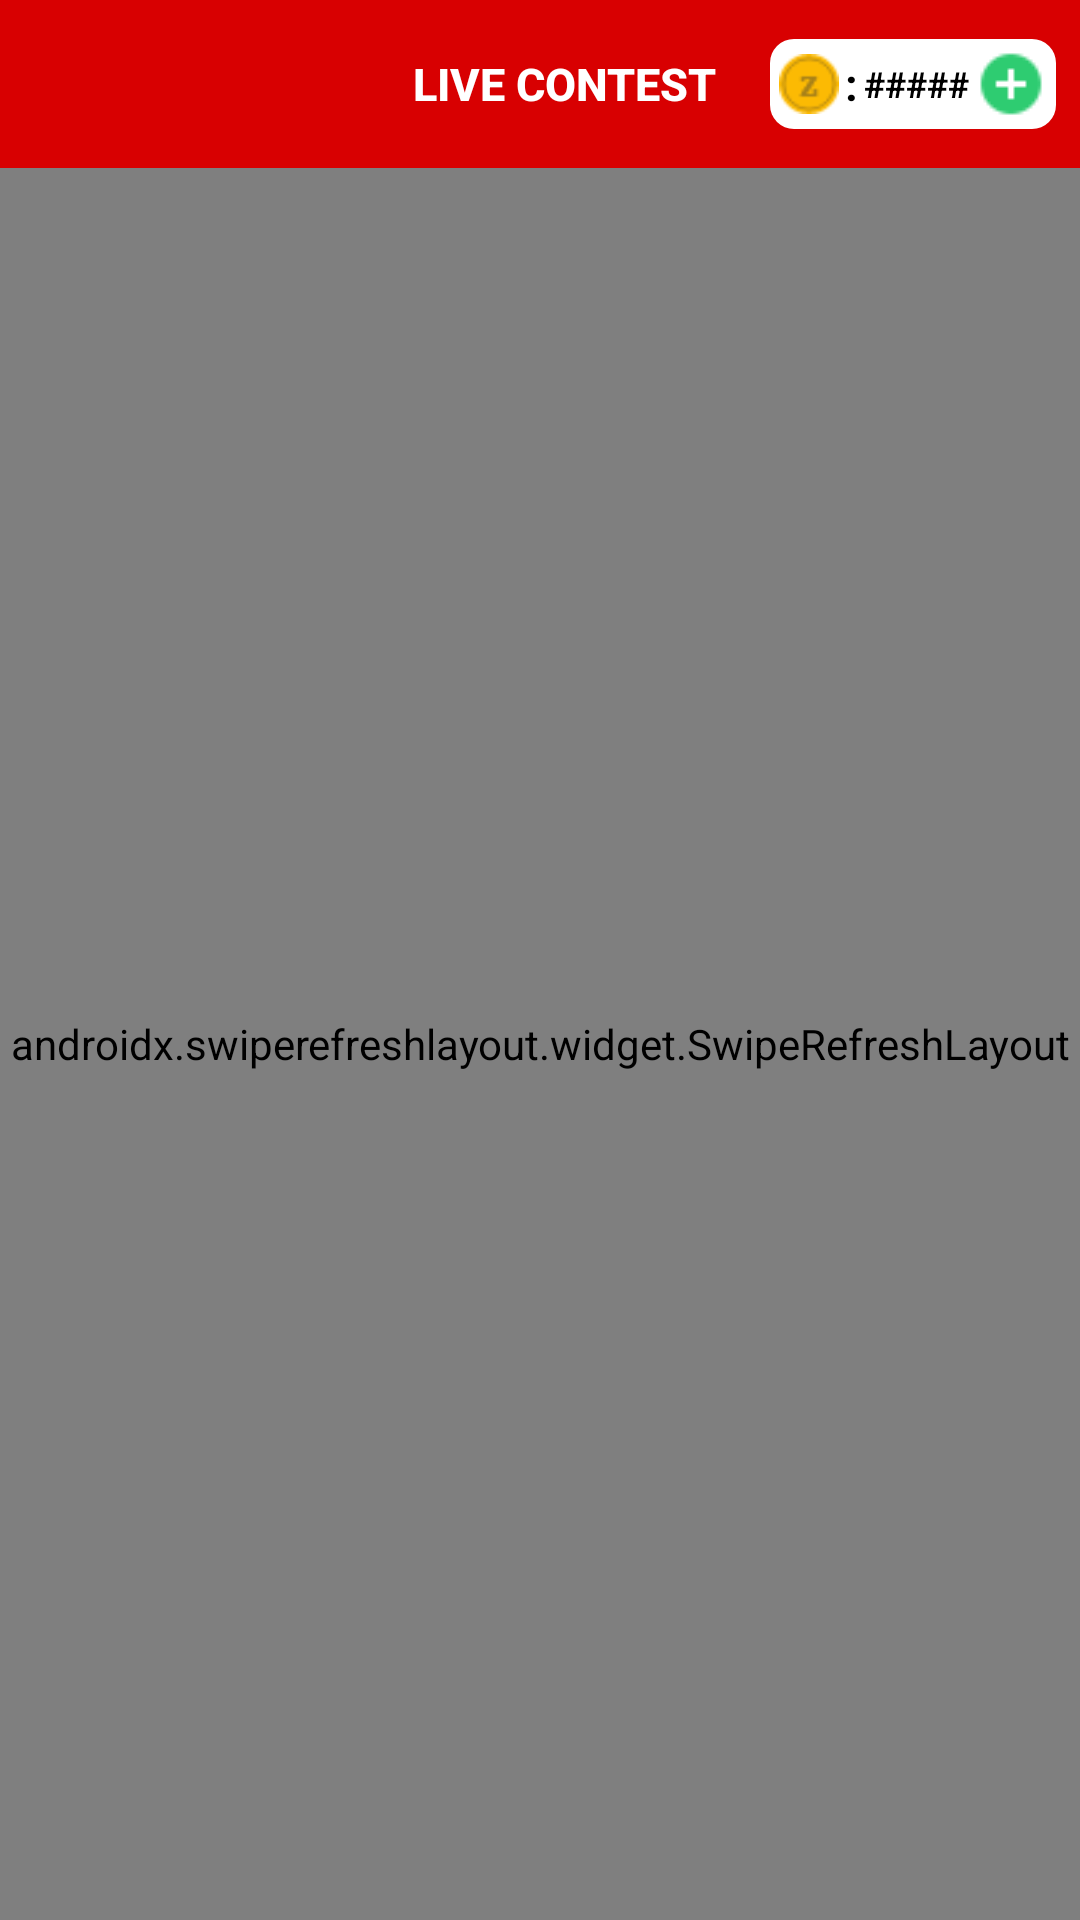

Locate icon controls on the screen. Image size 1080×1920, boxes as box(x1, y1, x2, y2).
plus: box(980, 53, 1042, 115)
zcoin: box(779, 54, 839, 114)
